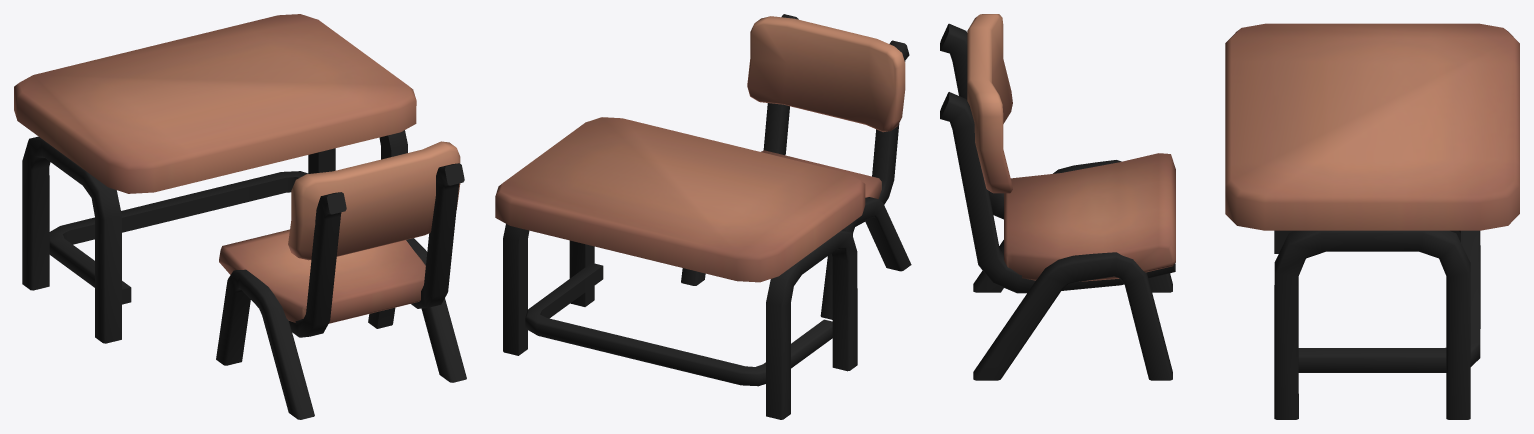
Rendered from StudentSeats.fbx.
The picture shows the model from 3 angles, left to right: view 1: azimuth 30°, elevation 25°; view 2: azimuth 150°, elevation 25°; view 3: azimuth 270°, elevation 25°; orthographic projection. The views are drawn at different scales.
Parts seen in each view (by area): view 1: StudentSeats.010, StudentSeats.001, StudentSeats.002, StudentSeats.009, StudentSeats.008, StudentSeats.006, StudentSeats.003, StudentSeats.004, StudentSeats.005, StudentSeats.007; view 2: StudentSeats.010, StudentSeats.001, StudentSeats.009, StudentSeats.008, StudentSeats.007, StudentSeats.006, StudentSeats.003, StudentSeats.004, StudentSeats.002; view 3: StudentSeats.010, StudentSeats.002, StudentSeats.007, StudentSeats.005, StudentSeats.001, StudentSeats.004, StudentSeats.008, StudentSeats.003, StudentSeats.006.
Part boxes in pixels (box(x1,y1,x2,y2)): StudentSeats.010: box(14, 14, 416, 193); StudentSeats.001: box(288, 141, 460, 260); StudentSeats.002: box(219, 229, 425, 323); StudentSeats.009: box(22, 136, 121, 343); StudentSeats.008: box(49, 171, 308, 304); StudentSeats.006: box(216, 269, 314, 419); StudentSeats.003: box(289, 192, 346, 337); StudentSeats.004: box(411, 163, 464, 308); StudentSeats.005: box(368, 238, 466, 382); StudentSeats.007: box(308, 130, 407, 173); StudentSeats.010: box(495, 117, 865, 282); StudentSeats.001: box(747, 16, 905, 132); StudentSeats.009: box(766, 229, 857, 419); StudentSeats.008: box(525, 263, 832, 386); StudentSeats.007: box(503, 224, 594, 355); StudentSeats.006: box(820, 197, 911, 319); StudentSeats.003: box(855, 40, 909, 226); StudentSeats.004: box(763, 14, 798, 155); StudentSeats.002: box(761, 150, 881, 198); StudentSeats.010: box(1225, 23, 1519, 230); StudentSeats.002: box(1004, 153, 1175, 281); StudentSeats.007: box(1274, 230, 1470, 419); StudentSeats.005: box(973, 252, 1172, 380); StudentSeats.001: box(967, 14, 1012, 193); StudentSeats.004: box(940, 92, 1175, 293); StudentSeats.008: box(1298, 230, 1480, 372); StudentSeats.003: box(940, 23, 1003, 219); StudentSeats.006: box(973, 160, 1172, 292).
Size of the model in its own units: 1.8 by 1.3 by 0.9536.
